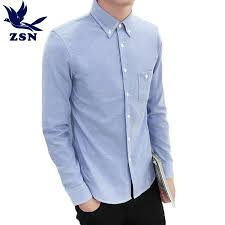C_shirt: (42, 2, 174, 207)
